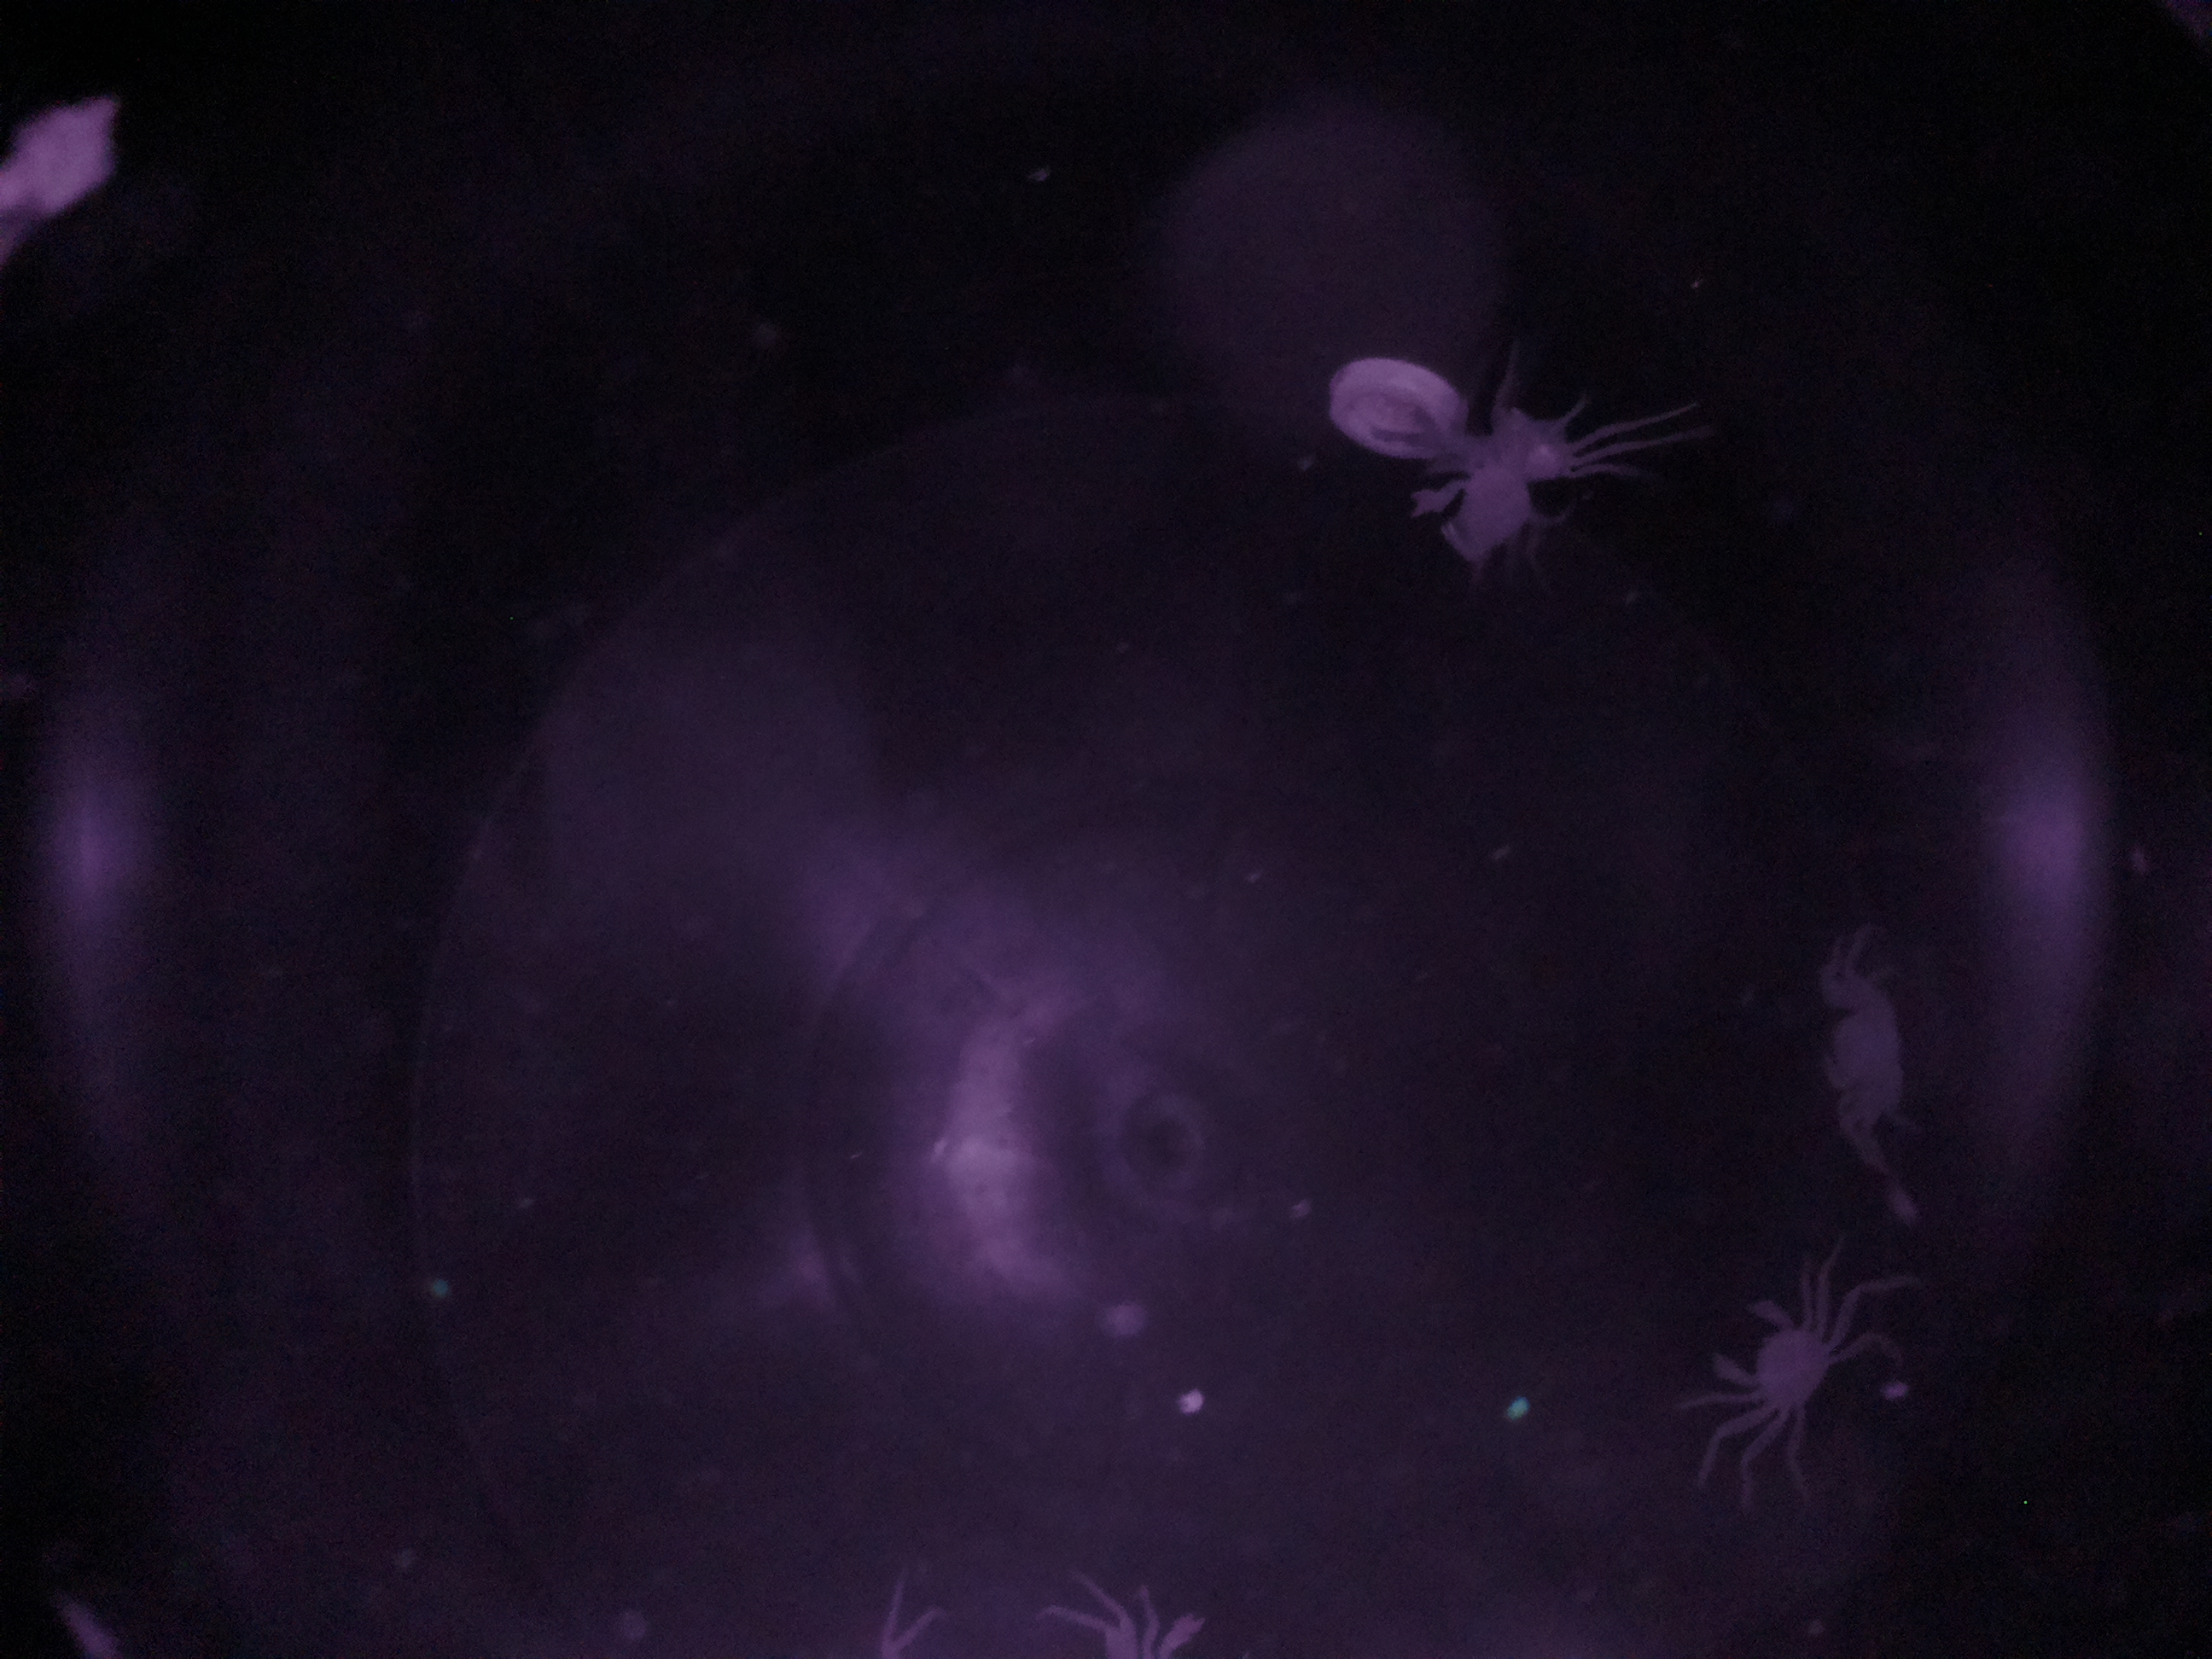Crab: (1686, 1265, 1865, 1460)
